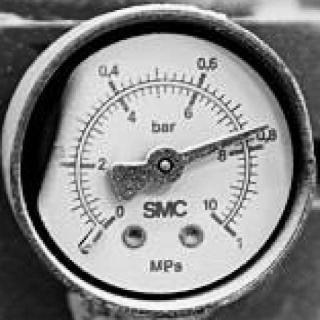gauge: (0, 1, 320, 317), (198, 196, 250, 248), (76, 207, 124, 258), (147, 146, 186, 186), (258, 121, 274, 133)
